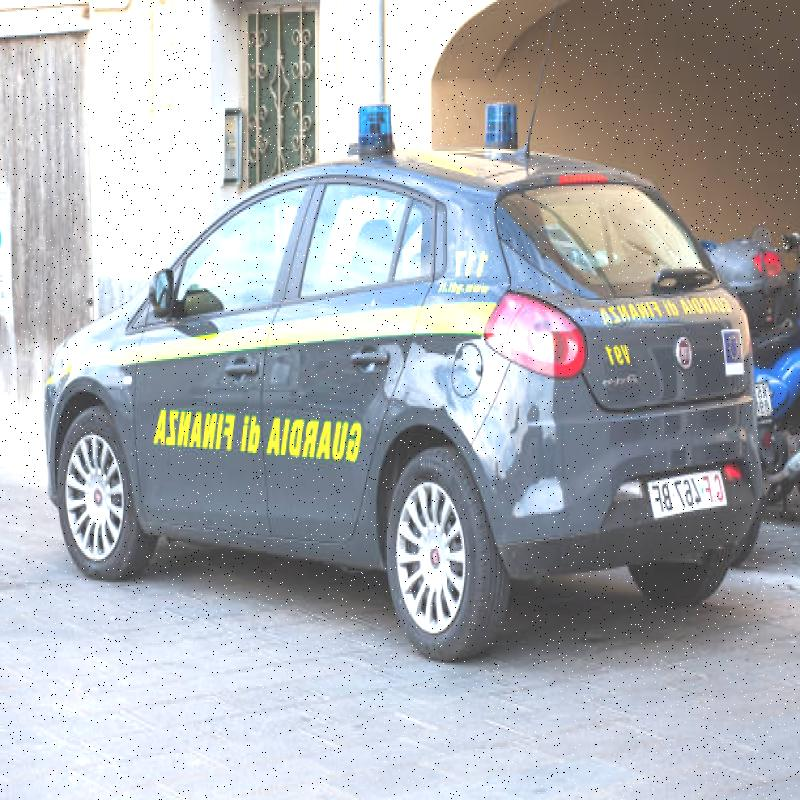AmbulanceSiren: (466, 73, 545, 159), (346, 87, 413, 158)
